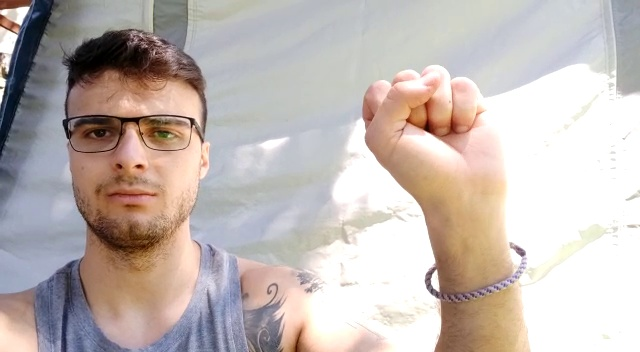Fist: (348, 65, 519, 210)
